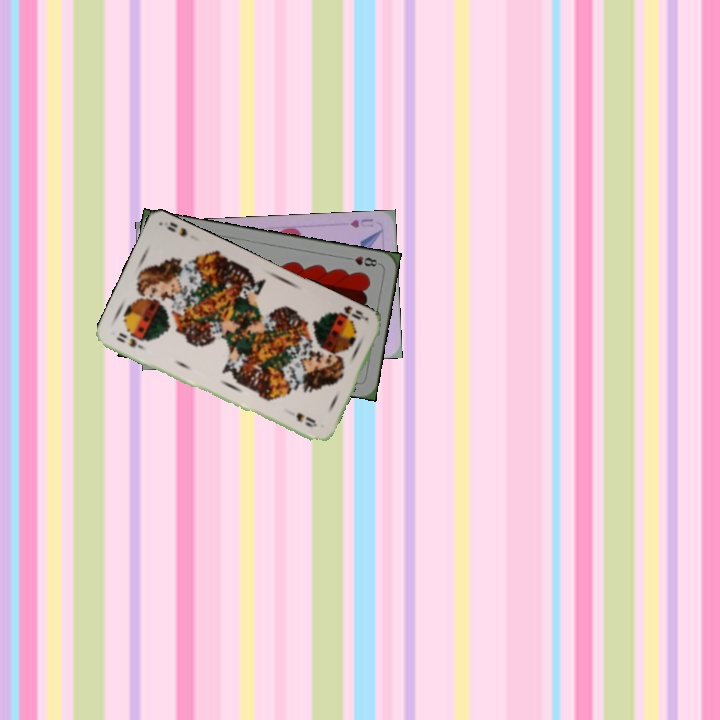H8: (342, 252, 382, 269)
HU: (346, 214, 376, 230)
SO: (328, 301, 370, 325), (113, 328, 146, 352)
